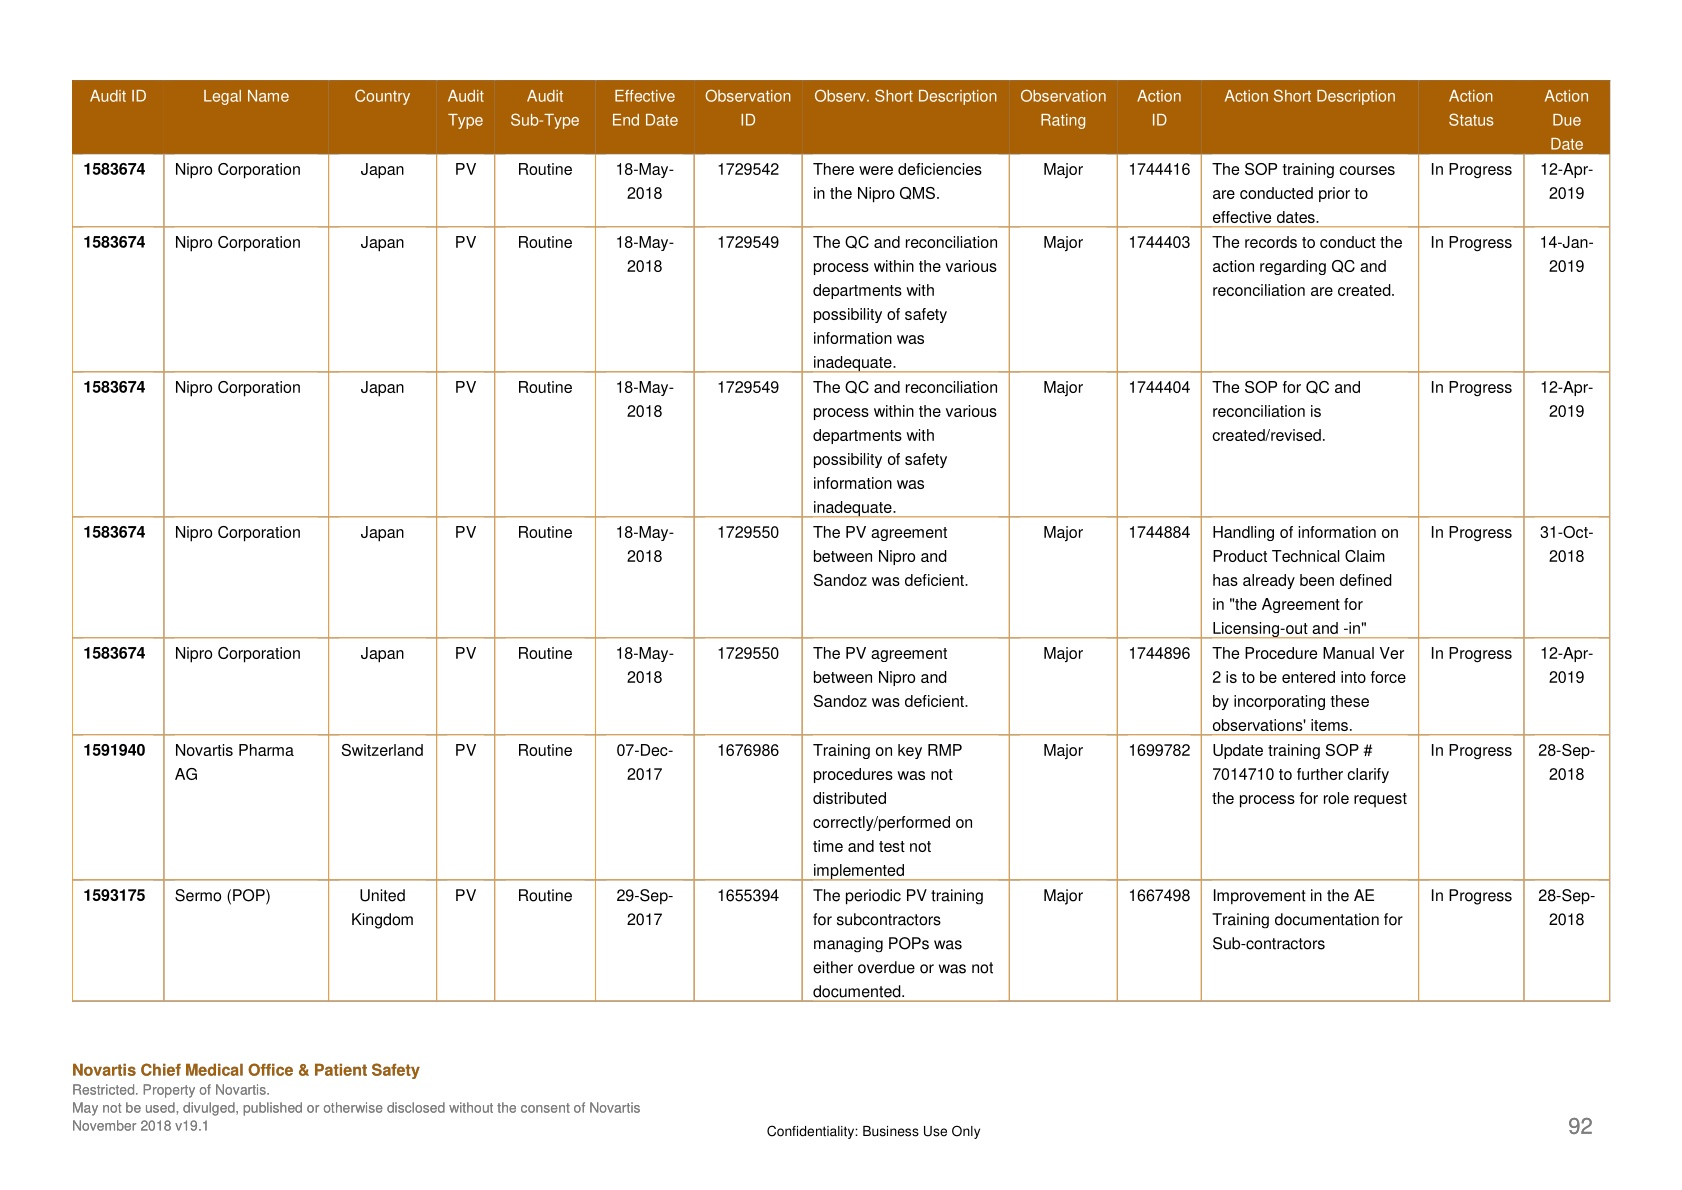full_lined: (70, 79, 1611, 1002)
